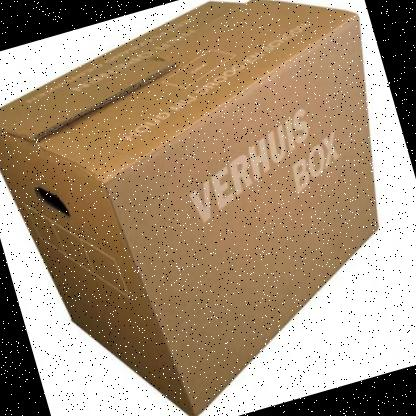box: (1, 1, 379, 416)
normal_hole: (34, 185, 71, 218)
